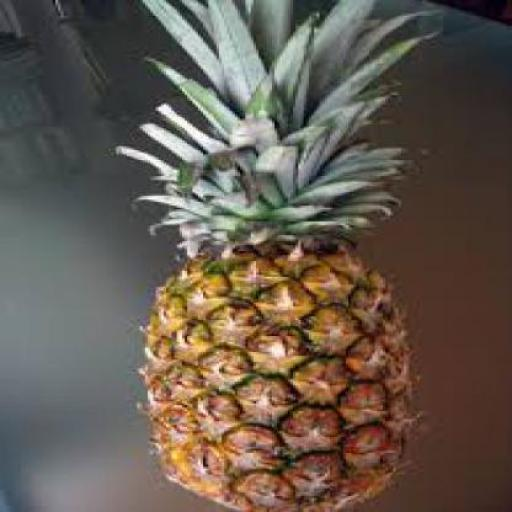biodegradable: (126, 0, 428, 511), (136, 230, 420, 510), (134, 0, 422, 255)
